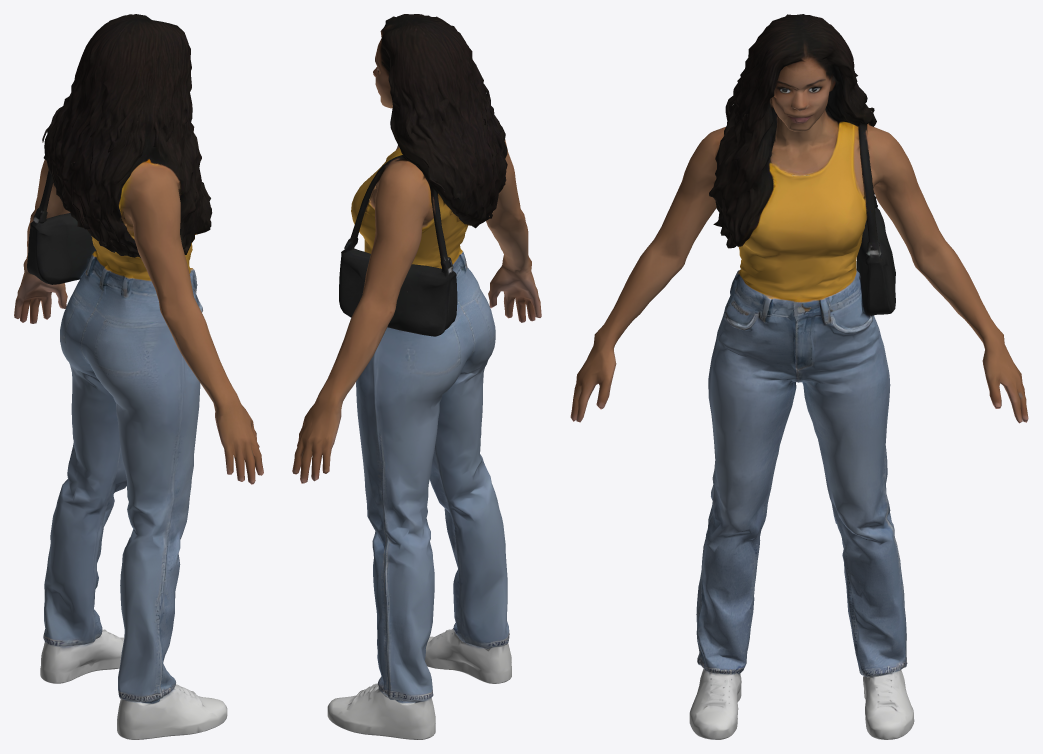
Rendered from pedestre_mulher.glb.
The picture shows the model from 3 angles, left to right: view 1: azimuth 30°, elevation 25°; view 2: azimuth 150°, elevation 25°; view 3: azimuth 270°, elevation 25°; orthographic projection. The views are drawn at different scales.
Visible parts, largest first — view 1: tripo_node_bc9ca217-b26f-4e8b-8e4c-b66bcf7b9ae4; view 2: tripo_node_bc9ca217-b26f-4e8b-8e4c-b66bcf7b9ae4; view 3: tripo_node_bc9ca217-b26f-4e8b-8e4c-b66bcf7b9ae4.
Part boxes in pixels (bbox=[...]): tripo_node_bc9ca217-b26f-4e8b-8e4c-b66bcf7b9ae4: bbox=[14, 14, 263, 739]; tripo_node_bc9ca217-b26f-4e8b-8e4c-b66bcf7b9ae4: bbox=[292, 14, 541, 739]; tripo_node_bc9ca217-b26f-4e8b-8e4c-b66bcf7b9ae4: bbox=[570, 14, 1028, 739].
Size of the model in its own units: 0.3377 by 1.75 by 1.04.
1 material, 1 textured.
